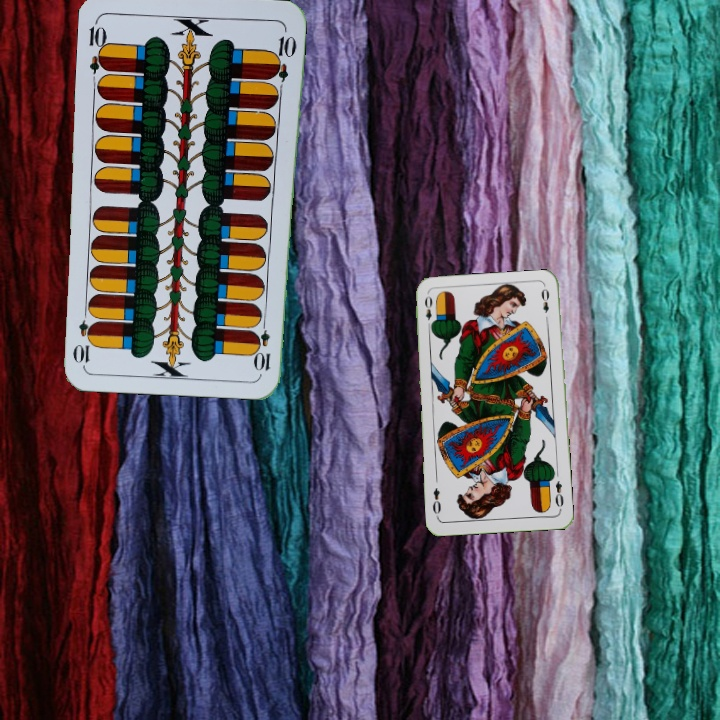E10: (85, 16, 111, 75), (254, 314, 273, 374)
EO: (420, 292, 437, 332), (551, 477, 566, 513)
